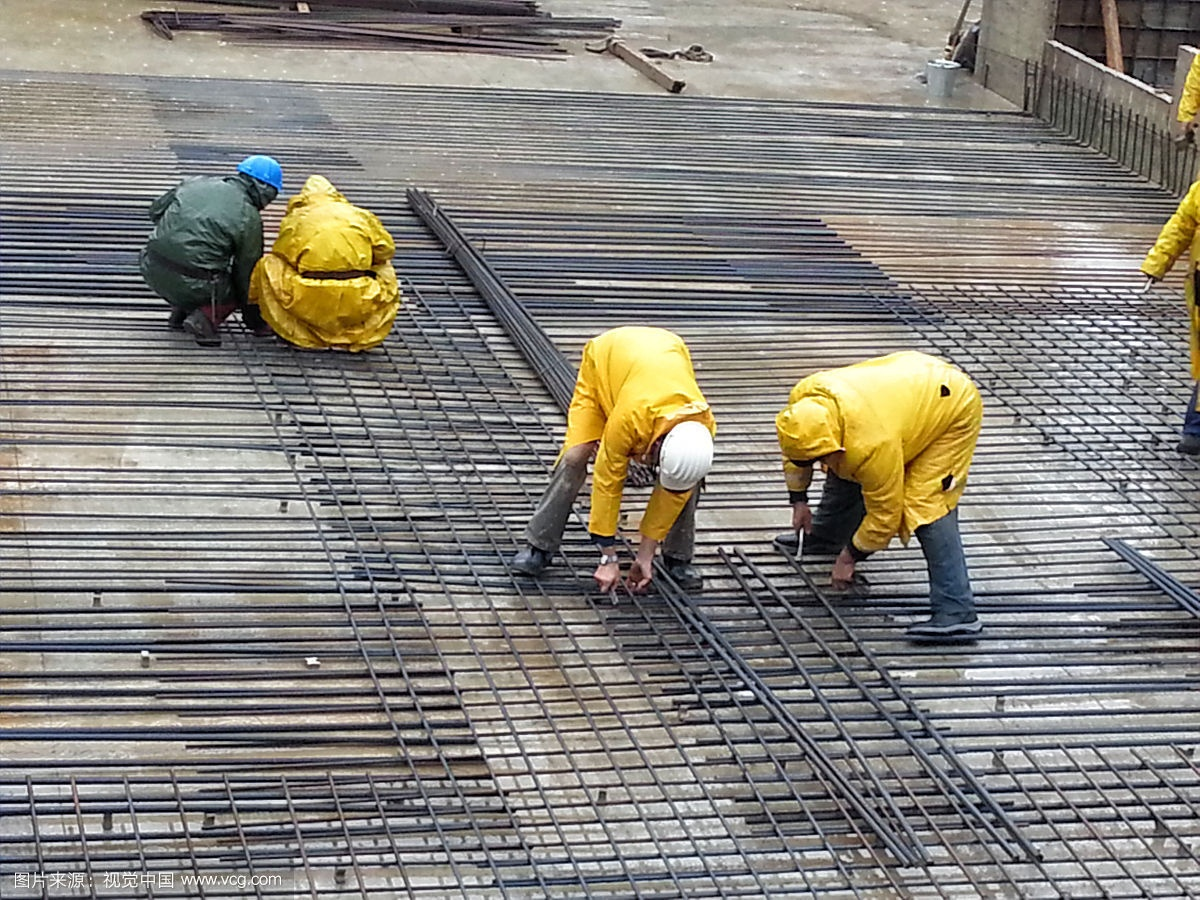blue: (231, 151, 285, 213)
white: (645, 412, 720, 493)
